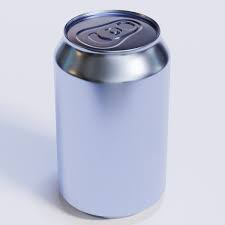can: (54, 7, 168, 221)
